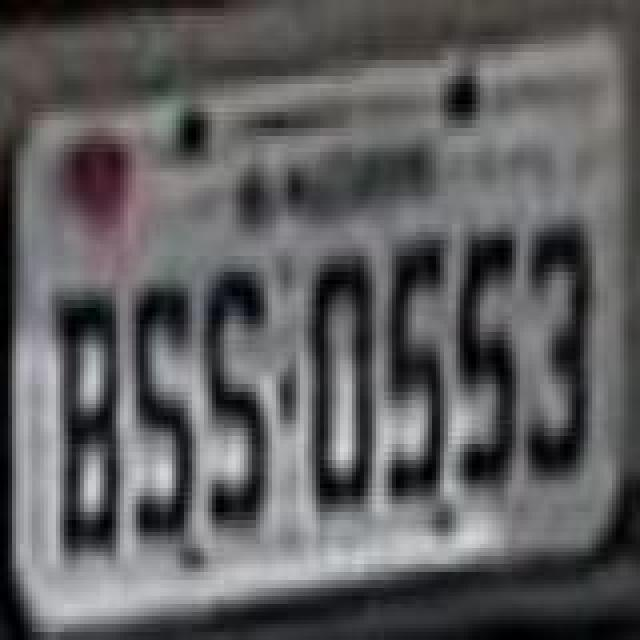3: (524, 216, 596, 488)
5: (384, 236, 448, 508), (456, 224, 520, 496)
B: (52, 296, 124, 568)
O: (310, 256, 378, 512)
S: (200, 268, 272, 532), (130, 284, 198, 548)
